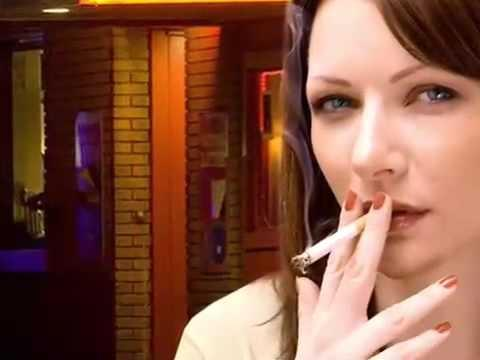cigarette: (292, 211, 373, 276)
